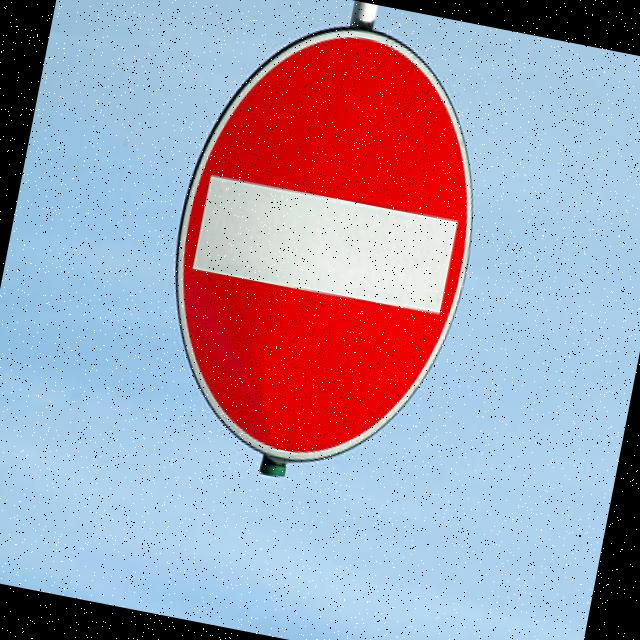do_not_enter: (126, 0, 517, 493)
